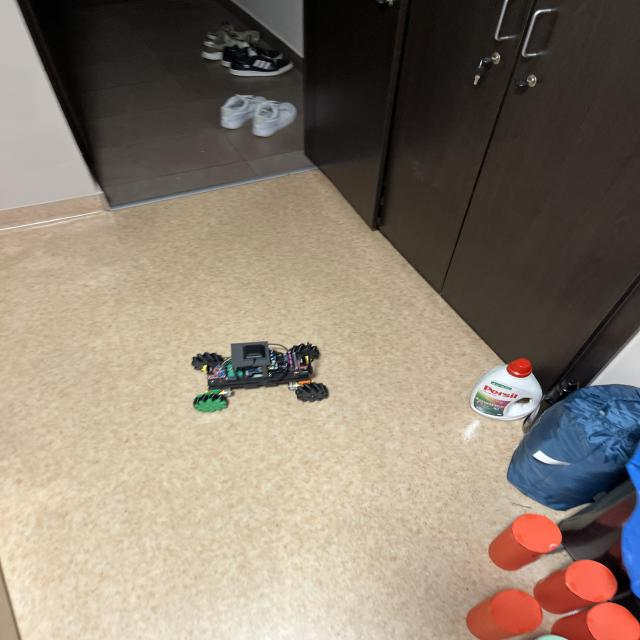robot: (191, 341, 329, 412)
